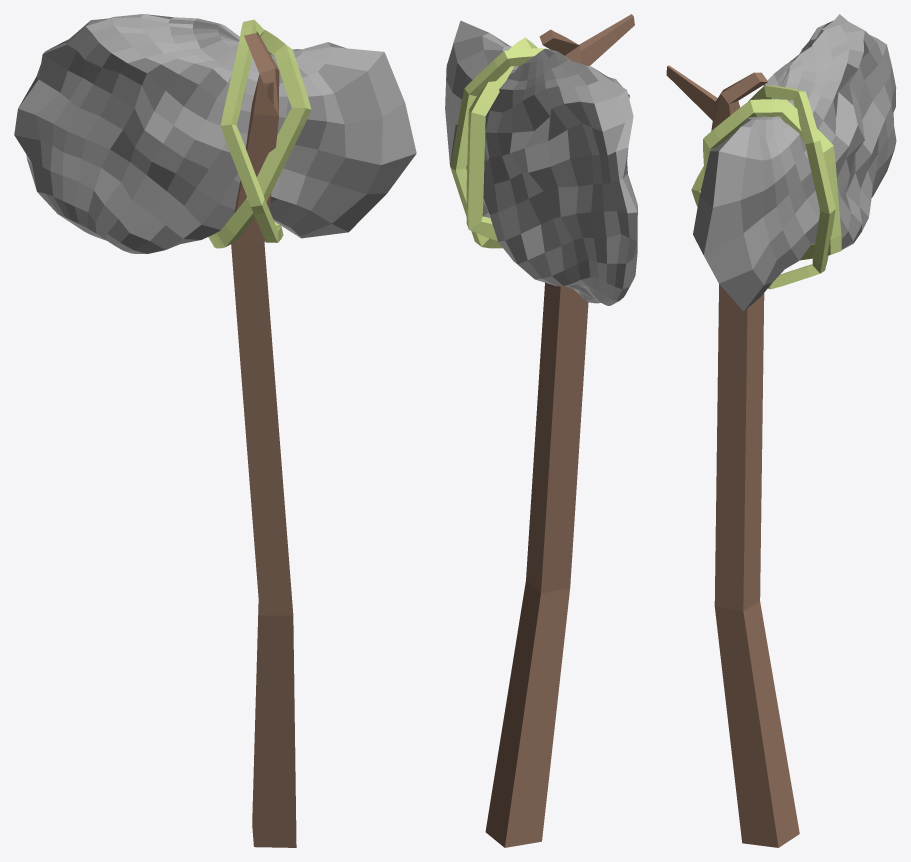
File: axe.fbx
The picture shows the model from 3 angles, left to right: view 1: azimuth 30°, elevation 25°; view 2: azimuth 150°, elevation 25°; view 3: azimuth 270°, elevation 25°; orthographic projection. The views are drawn at different scales.
Parts seen in each view (by area): view 1: Cube; view 2: Cube; view 3: Cube.
Boxes of the visible parts, x1,y1,x2,y2 form: Cube: (14, 14, 416, 847); Cube: (445, 14, 637, 847); Cube: (666, 14, 896, 847).
Size of the model in its own units: 24.7 by 65.49 by 17.87.
